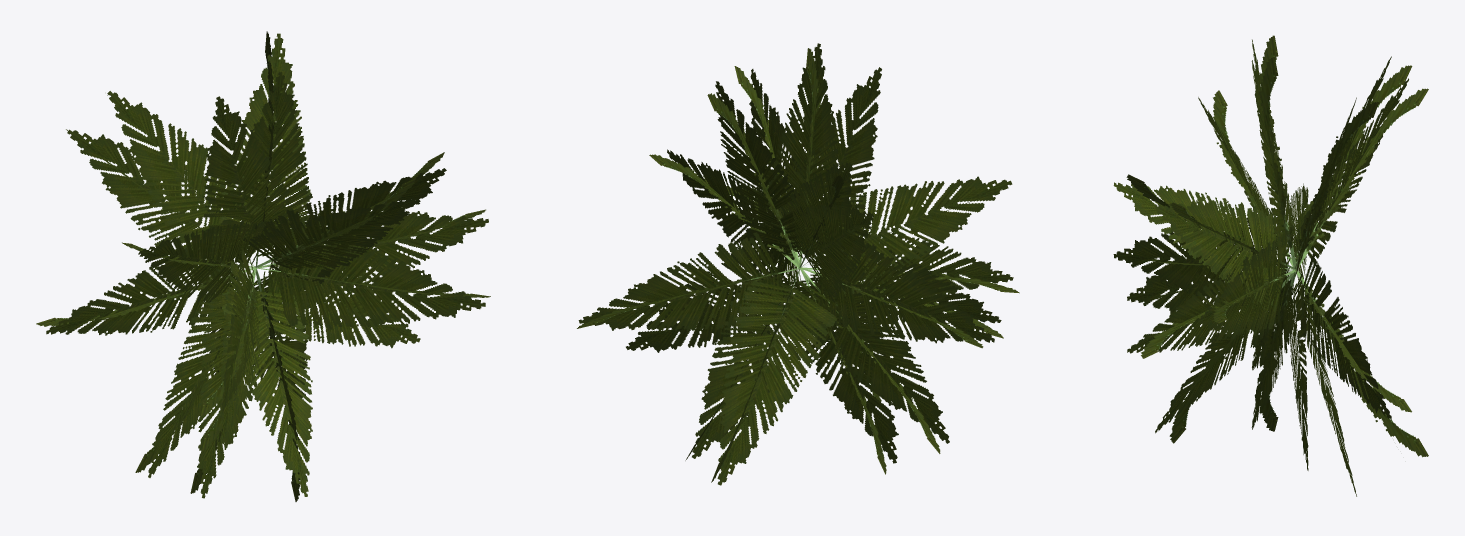
Rendered from palm10_tex.obj.
3 views of the same model, side by side, from view 1: azimuth 30°, elevation 25°; view 2: azimuth 150°, elevation 25°; view 3: azimuth 270°, elevation 25° (orthographic).
Visible parts, largest first — view 1: material3; view 2: material3; view 3: material3.
Boxes of the visible parts, x1,y1,x2,y2 form: material3: [36, 31, 490, 501]; material3: [577, 43, 1019, 485]; material3: [1113, 35, 1428, 496].
Size of the model in its own units: 6.74 by 6.84 by 4.98.
